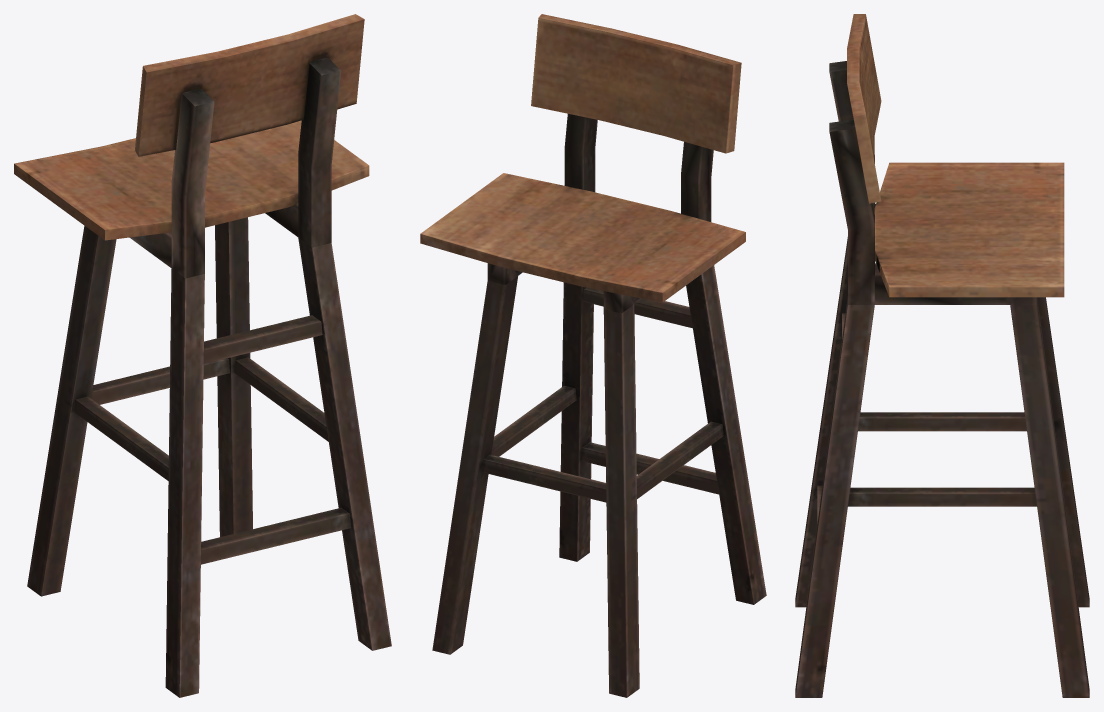
The model's file is Prop_JbDz01.glb.
3 renders of one model, left to right at view 1: azimuth 30°, elevation 25°; view 2: azimuth 150°, elevation 25°; view 3: azimuth 270°, elevation 25°, orthographic. The views are drawn at different scales.
Parts seen in each view (by area): view 1: xiutz_jb_dz_01; view 2: xiutz_jb_dz_01; view 3: xiutz_jb_dz_01.
Part boxes in pixels (x1,y1,x2,y2): xiutz_jb_dz_01: (14, 14, 391, 697); xiutz_jb_dz_01: (420, 14, 766, 697); xiutz_jb_dz_01: (795, 14, 1089, 697).
Size of the model in its own units: 0.8291 by 1.81 by 0.8278.
Materials: 1 (1 with a texture image).
